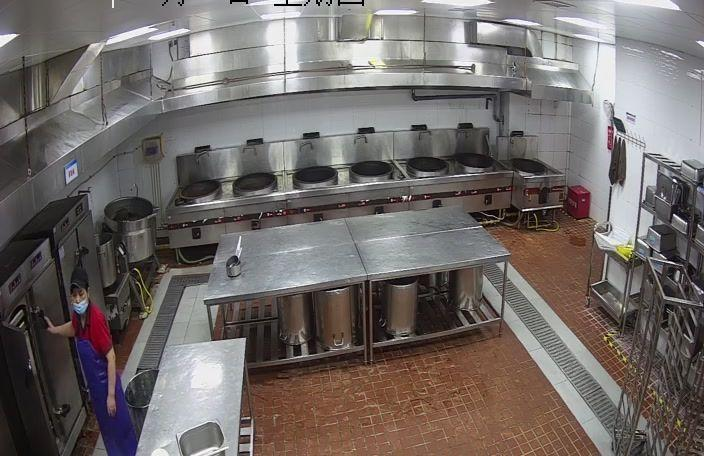mask: (70, 292, 90, 312)
